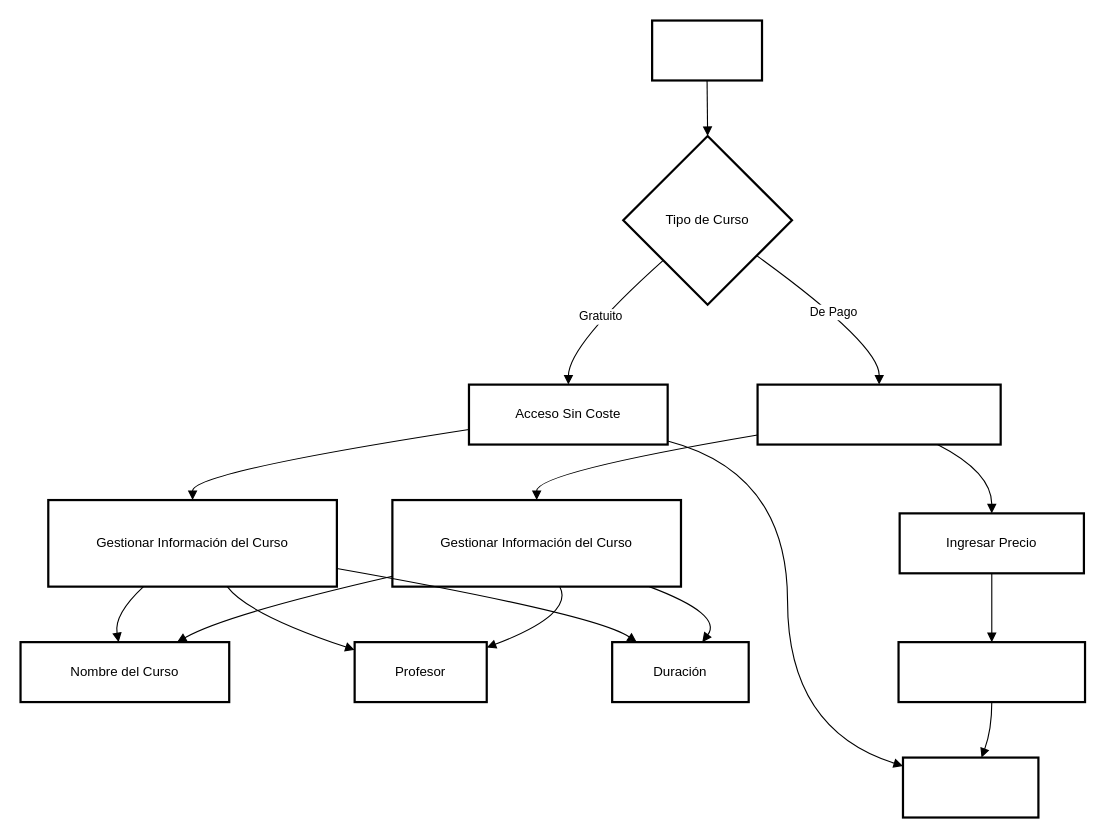
This 1104x837 diagram has some shape labels left out. The centre of each missing label's shape, as x and y in pixels:
Acceso de Estudiantes: (878,414)
Calcular Precio: (991,671)
Finalizar: (970,787)
Inicio: (706,50)
